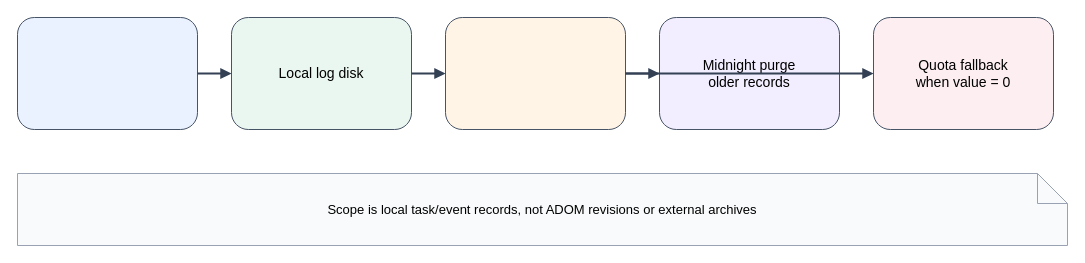
Some shapes in this 1085 by 263 pixel diagram are drawn without their labels. The centre of each missing label's shape, as x and y in pixels:
Age evaluator log-max-days: [535,73]
Task Monitor Event Log: [107,73]
